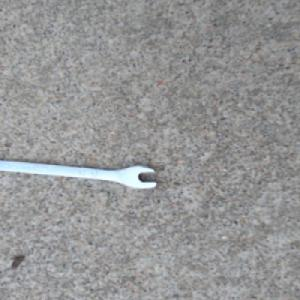Wrench: (0, 157, 159, 191)
